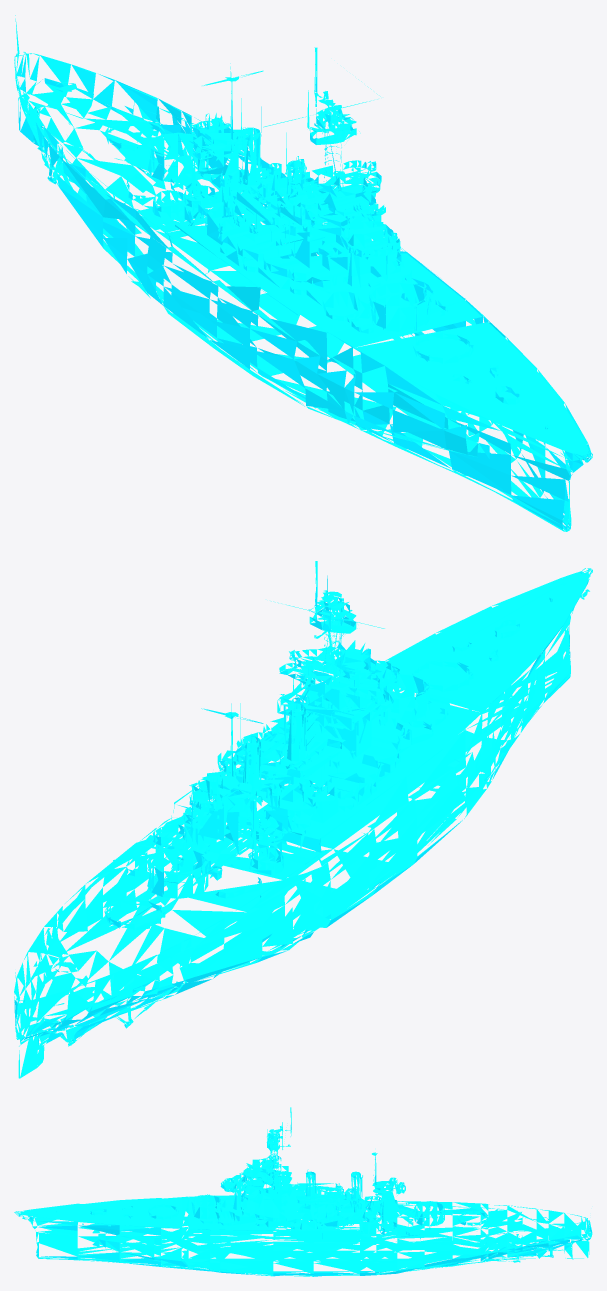
The model's file is Colorado.glb.
3 views of the same model, one above another, from view 1: azimuth 30°, elevation 25°; view 2: azimuth 150°, elevation 25°; view 3: azimuth 270°, elevation 25° (orthographic). The views are drawn at different scales.
Bounding box in the file's own units: 2.13 × 3.66 × 12.68.
